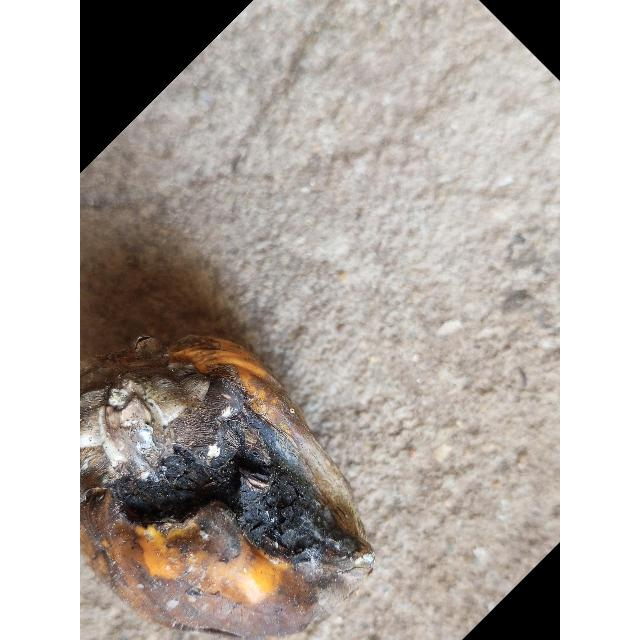damaged: (80, 294, 375, 640)
